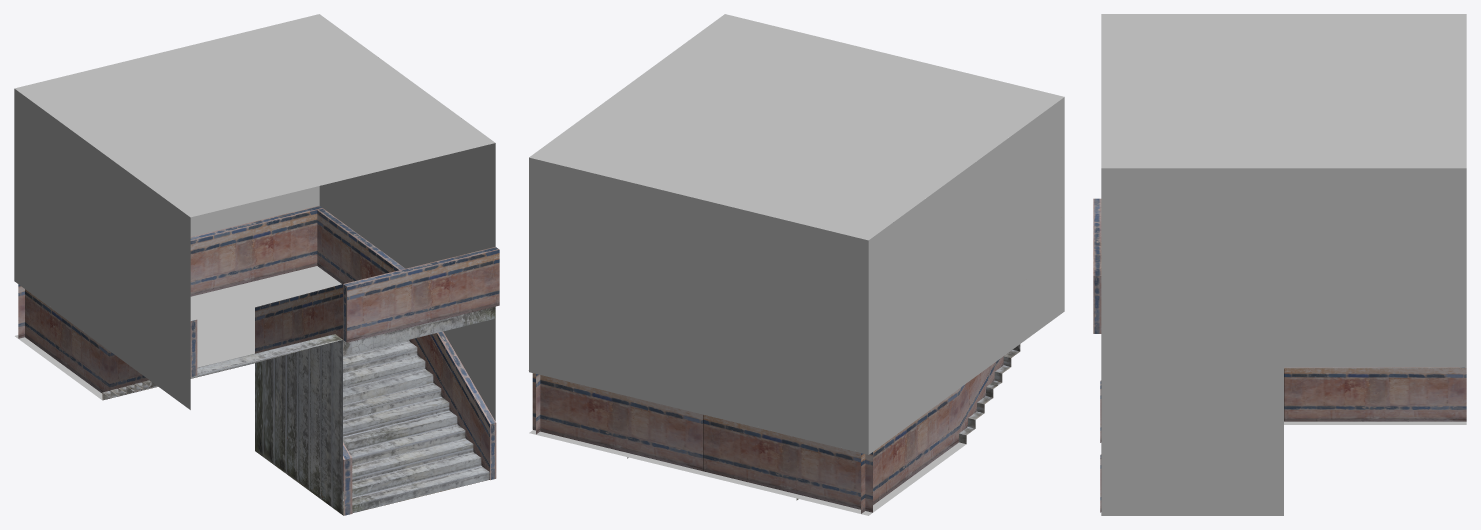
File: MorgueStairs.FBX
3 views of the same model, side by side, from view 1: azimuth 30°, elevation 25°; view 2: azimuth 150°, elevation 25°; view 3: azimuth 270°, elevation 25° (orthographic). The views are drawn at different scales.
Visible parts, largest first — view 1: Wall015, Perila, Stairs1, Floor015, Floor013, Floor014, Floor016, Floor012, Plank, Floor01; view 2: Wall015, Perila, Floor013, Floor014, Floor015, Floor016, Floor01, Stairs1, Floor012; view 3: Wall015, Floor013, Floor014, Floor015, Floor016, Perila, Floor012.
Boxes of the visible parts, x1,y1,x2,y2 form: Wall015: (14,89,495,420); Perila: (18,205,499,515); Stairs1: (102,334,489,515); Floor015: (14,51,254,152); Floor013: (103,116,342,217); Floor014: (255,78,495,179); Floor016: (167,14,407,115); Floor012: (190,266,341,355); Plank: (343,306,495,355); Floor01: (15,316,244,399); Wall015: (529,97,1064,458); Perila: (528,350,1011,513); Floor013: (797,55,1064,168); Floor014: (627,14,894,126); Floor015: (699,127,965,240); Floor016: (529,86,796,198); Floor01: (699,442,966,515); Stairs1: (796,344,1020,500); Floor012: (529,430,702,474); Wall015: (1101,168,1466,515); Floor013: (1101,14,1283,91); Floor014: (1101,91,1283,168); Floor015: (1284,14,1466,91); Floor016: (1284,91,1466,168); Perila: (1093,198,1466,512); Floor012: (1284,421,1466,424).
Bounding box in the file's own units: 158 × 165 × 161.
